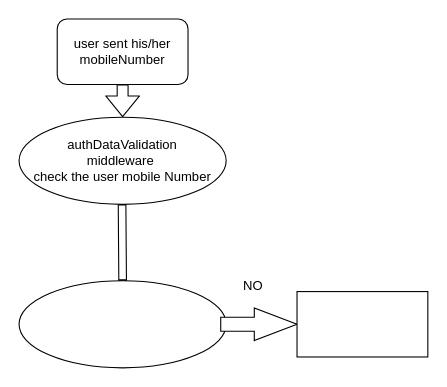
The diagram is 447 pixels wide and 387 high, and some of its shapes have lost their labels. Here are the shapes that lost their labels. From the top down, the box of each, then its label:
(18, 280, 226, 368): if this user exist in DB?
(296, 290, 428, 357): INSERT this user in DB by her/his mobileNubmer
